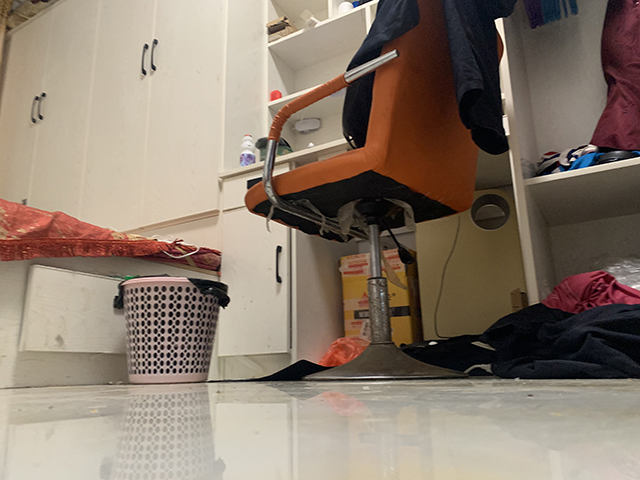bed: (1, 198, 220, 389)
cabinet: (222, 158, 300, 379)
stool: (242, 2, 492, 385)
trashcan: (118, 273, 230, 384)
